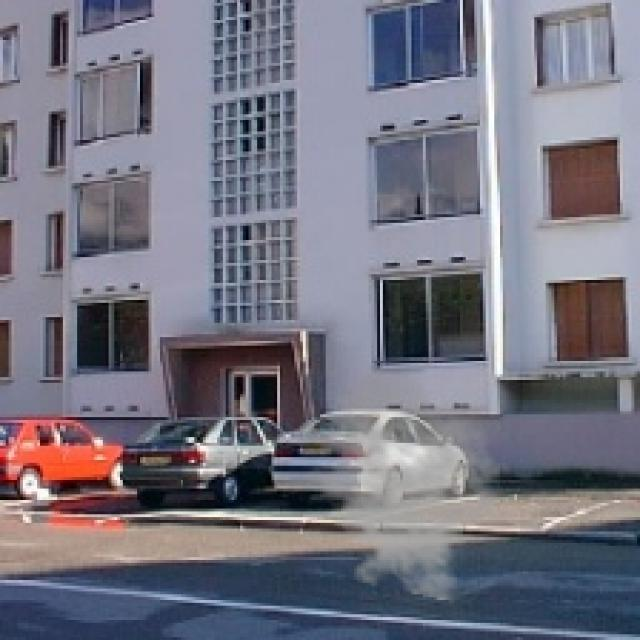smoke: (297, 368, 512, 603)
